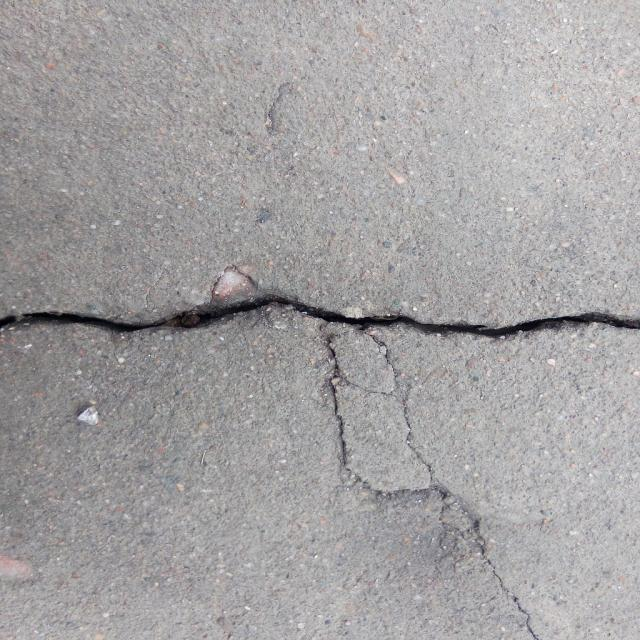cracks: (0, 268, 638, 632)
